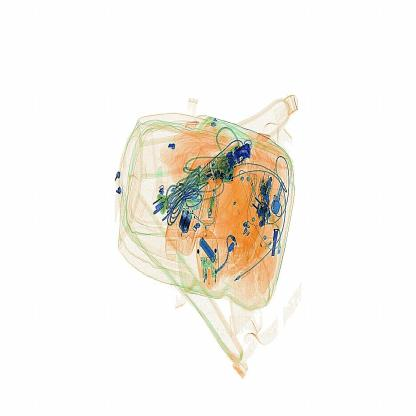knife: (237, 136, 255, 164)
